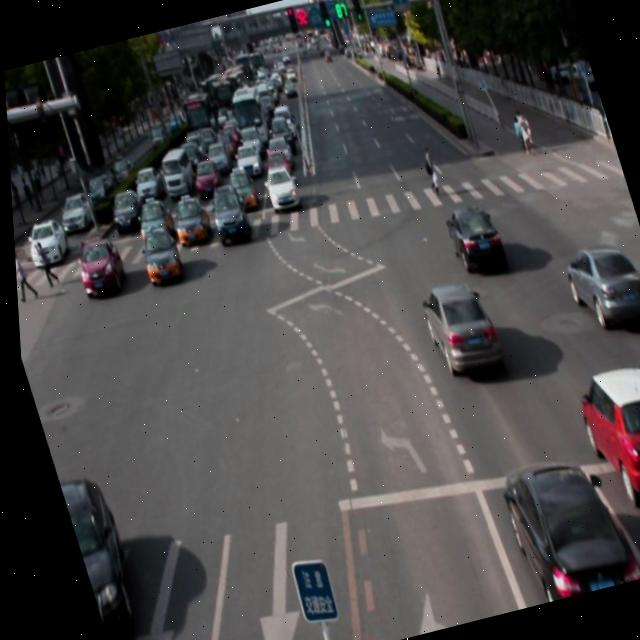car: (488, 444, 631, 604), (53, 473, 136, 638), (562, 354, 640, 511), (412, 276, 500, 380), (553, 234, 640, 338), (438, 200, 505, 278), (201, 180, 251, 245), (163, 190, 214, 252), (132, 224, 181, 286), (635, 326, 640, 456)
